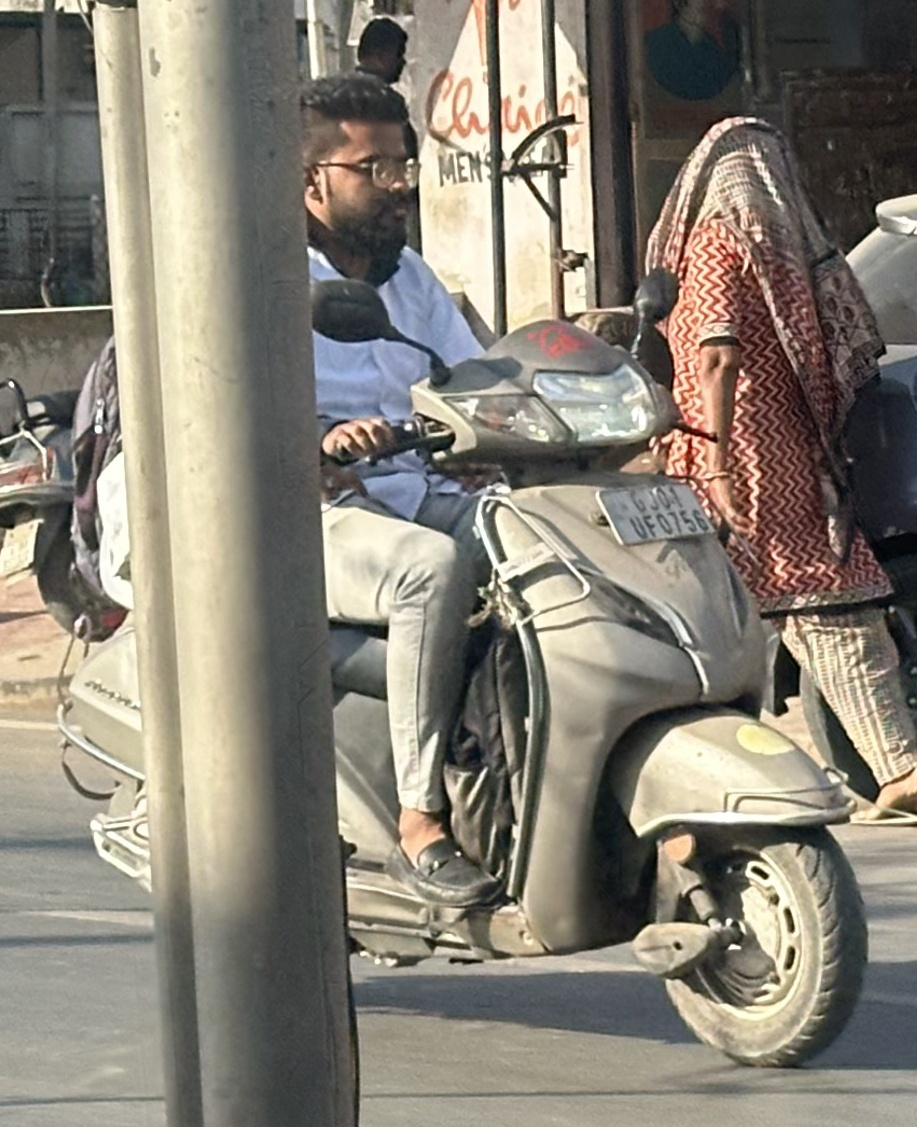BikeWithRider: (30, 59, 906, 1101)
NoHelmet: (278, 63, 437, 273)
